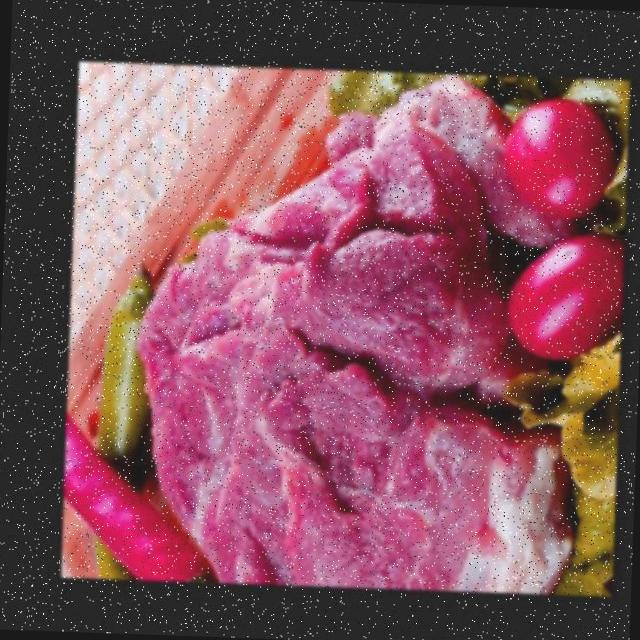potato: (140, 120, 579, 592), (324, 71, 563, 247)
